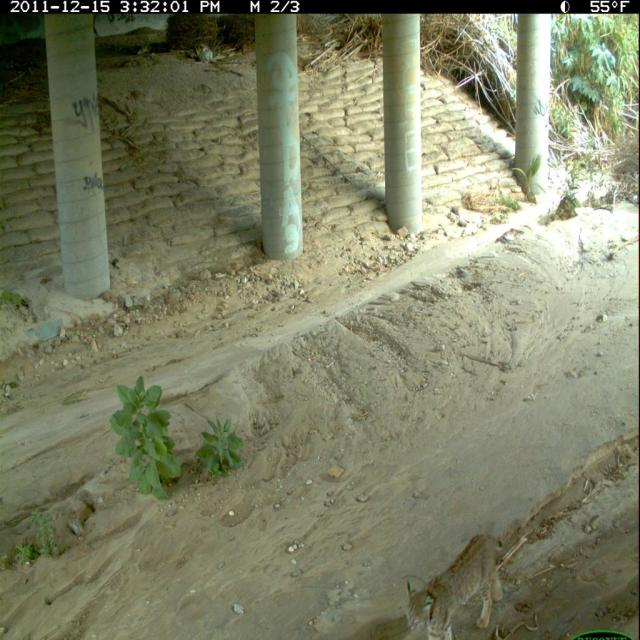bobcat: (401, 525, 511, 640)
